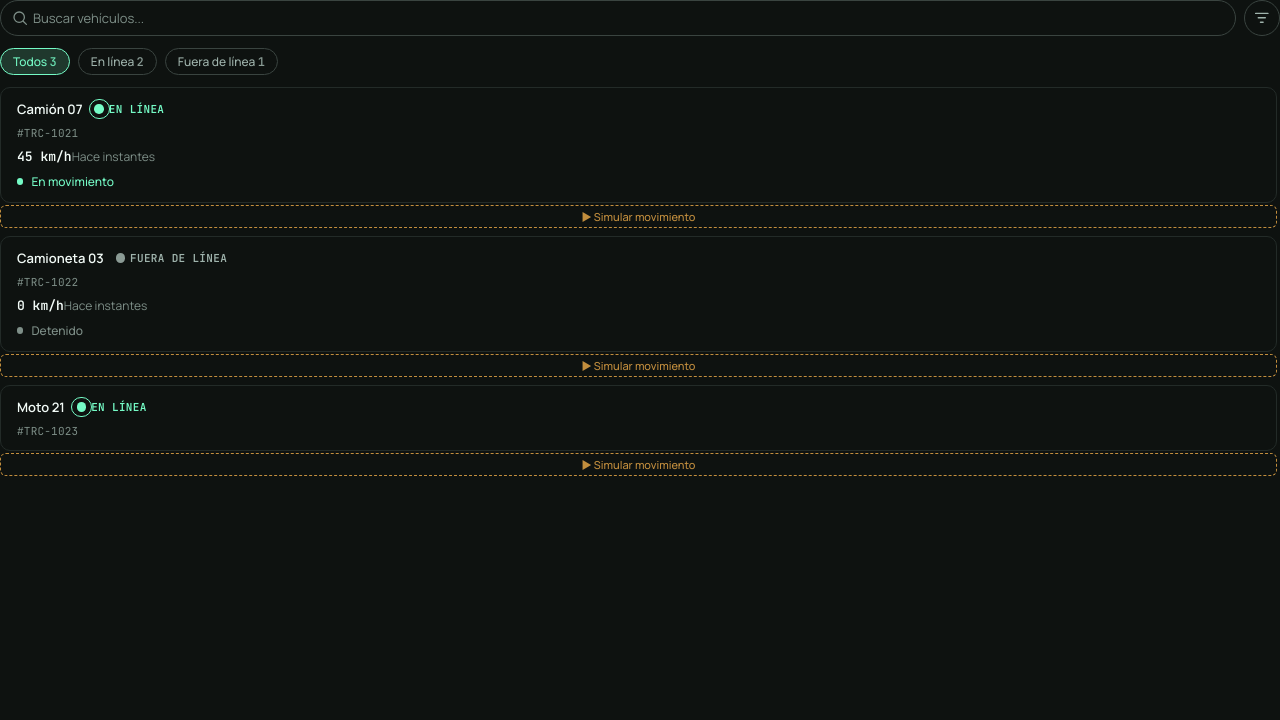
Test: <DeviceListPanel /> › filtros avanzados (Assets/displayComponentFilters.png) › Escape cierra el popover sin aplicar nada
Click the button named "Filtros avanzados".
click(1262, 18)  # box [1244,0,1279,36]
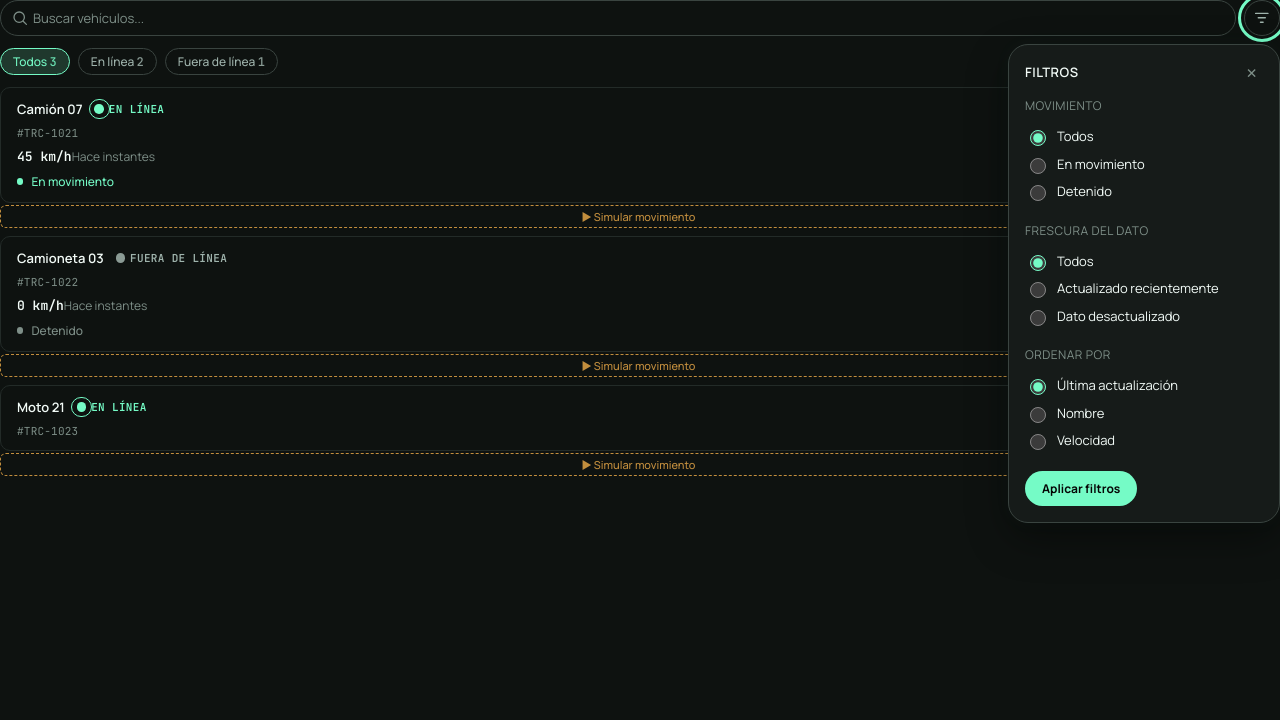
Now the dialog is shown, box [1008,44,1279,522]
Press Escape
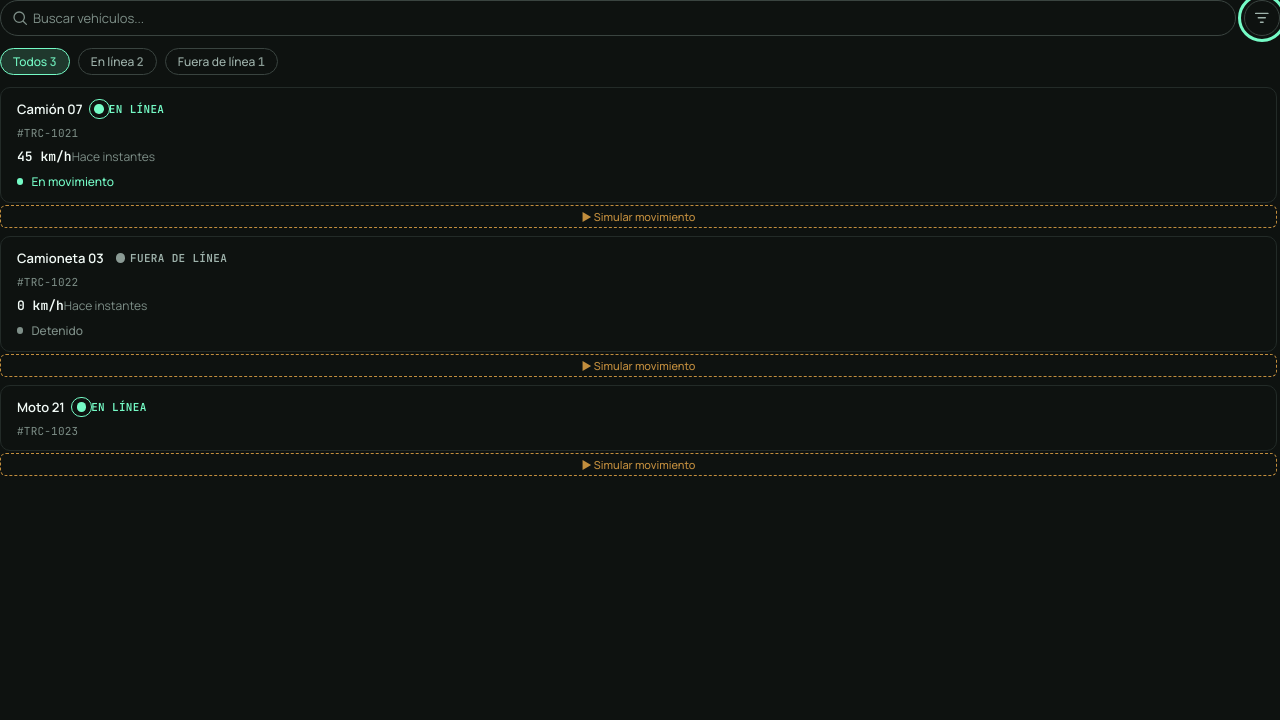
Now the dialog is gone
